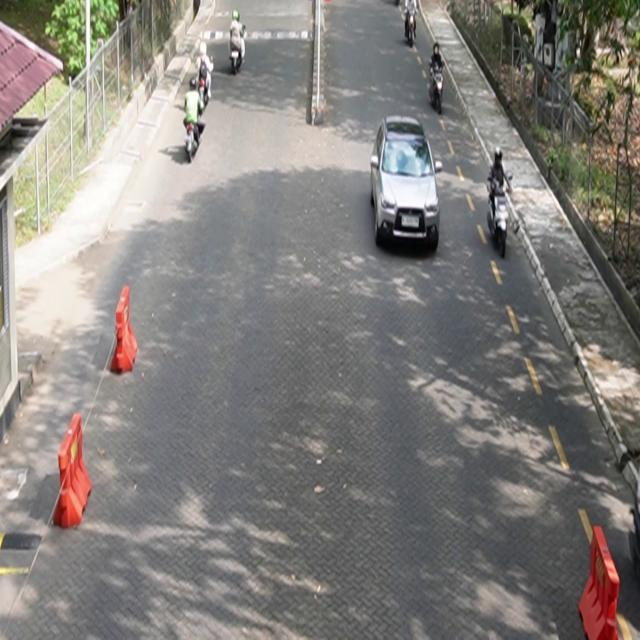car: (371, 115, 444, 252)
